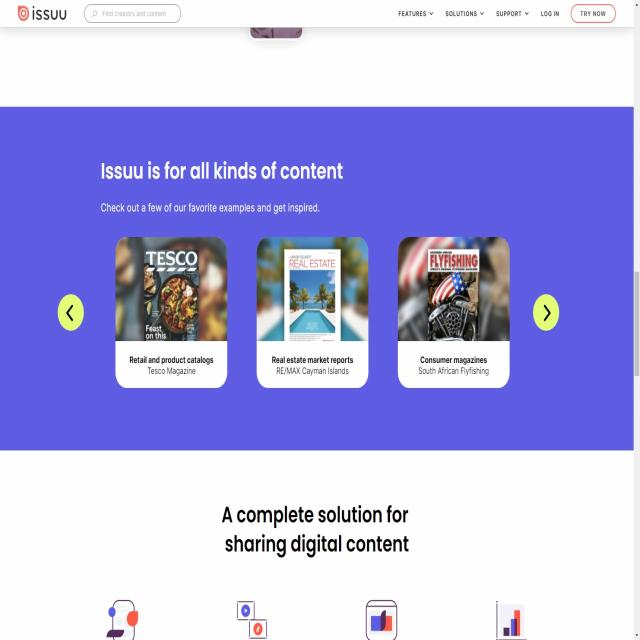menu-bar: (392, 4, 620, 23)
search: (79, 4, 184, 24)
